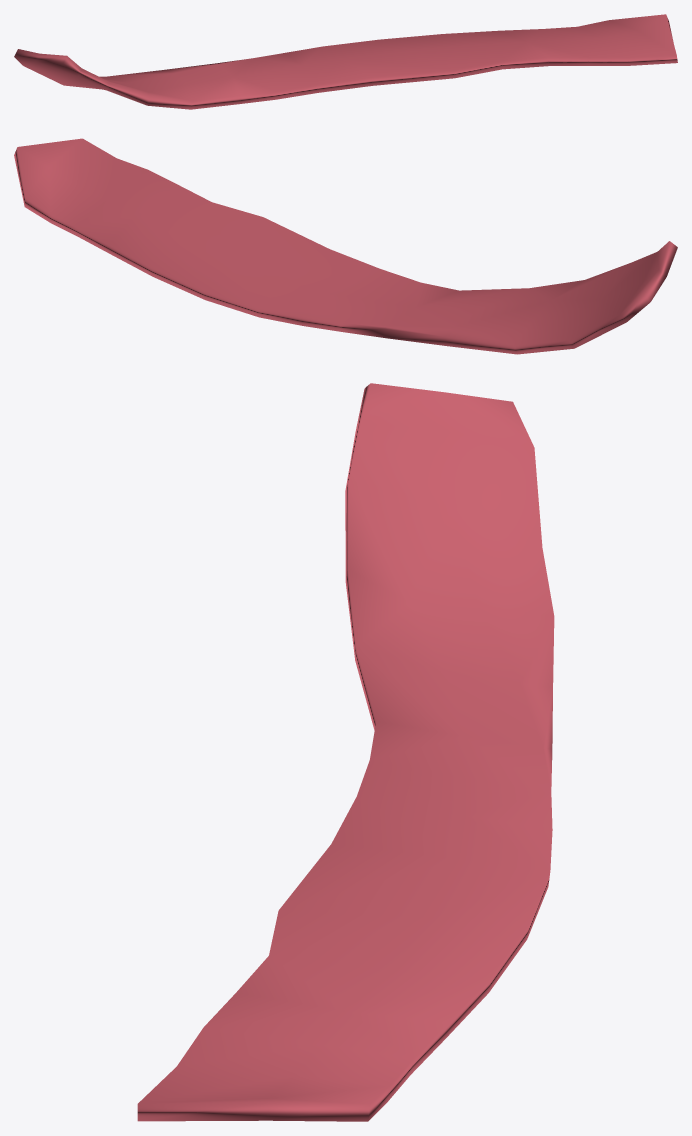
3 renders of one model, top to bottom at view 1: azimuth 30°, elevation 25°; view 2: azimuth 150°, elevation 25°; view 3: azimuth 270°, elevation 25°, orthographic. The views are drawn at different scales.
Visible parts, largest first — view 1: 右侧掌浅横韧带; view 2: 右侧掌浅横韧带; view 3: 右侧掌浅横韧带.
Part boxes in pixels (x1=…): 右侧掌浅横韧带: x1=14, y1=14, x2=677, y2=109; 右侧掌浅横韧带: x1=14, y1=138, x2=677, y2=354; 右侧掌浅横韧带: x1=137, y1=383, x2=554, y2=1121.
Size of the model in its own units: 0.1103 by 0.0192 by 0.0334.
